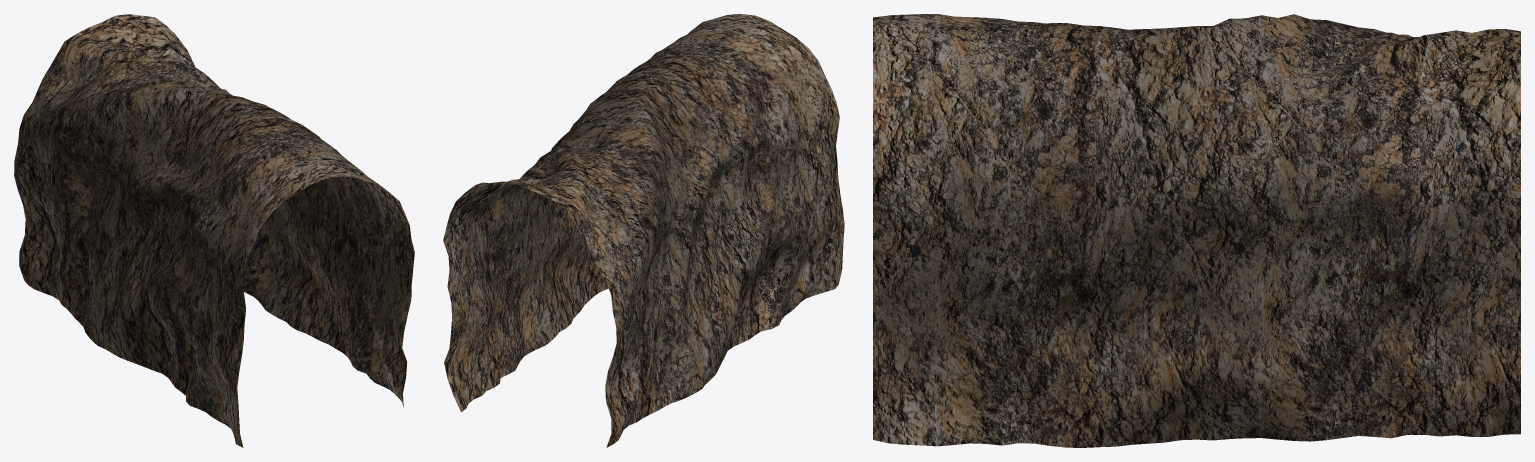
File: rock_tunnel_straight.DAE
The picture shows the model from 3 angles, left to right: view 1: azimuth 30°, elevation 25°; view 2: azimuth 150°, elevation 25°; view 3: azimuth 270°, elevation 25°; orthographic projection. The views are drawn at different scales.
Visible parts, largest first — view 1: Plane001; view 2: Plane001; view 3: Plane001.
Boxes of the visible parts, x1,y1,x2,y2 form: Plane001: (14, 14, 414, 447); Plane001: (443, 14, 844, 447); Plane001: (873, 14, 1520, 447).
Size of the model in its own units: 3.8 by 4.91 by 8.
